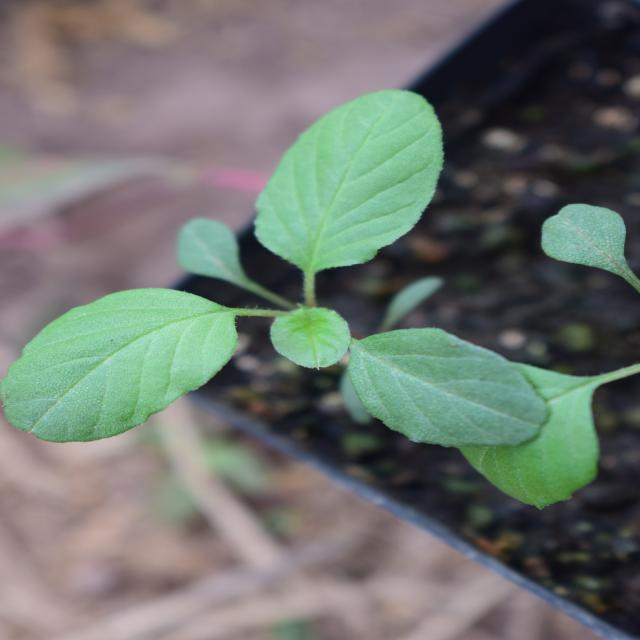pigweed: (190, 2, 552, 547)
